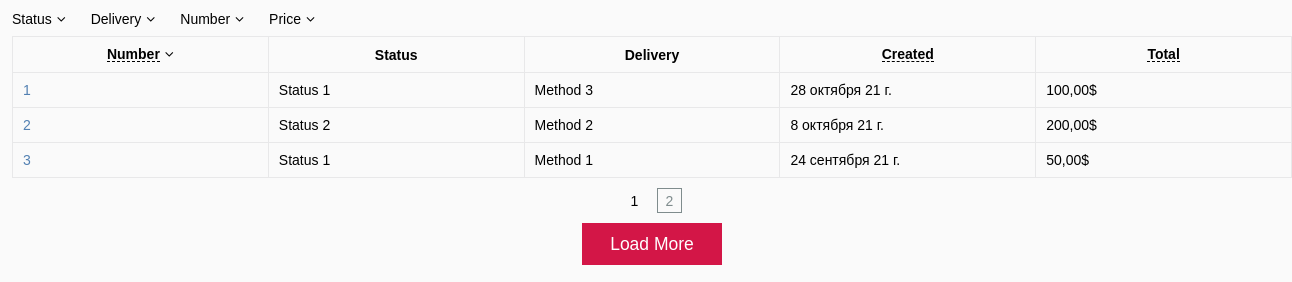
Test: user orders › sorting
Check: the button "Total" is shown, box [1147,47,1180,62]
Check: the cell "1" is shown, box [12,72,268,108]
Click the 2nd button "Number" at [140, 54], box [107,47,174,62]
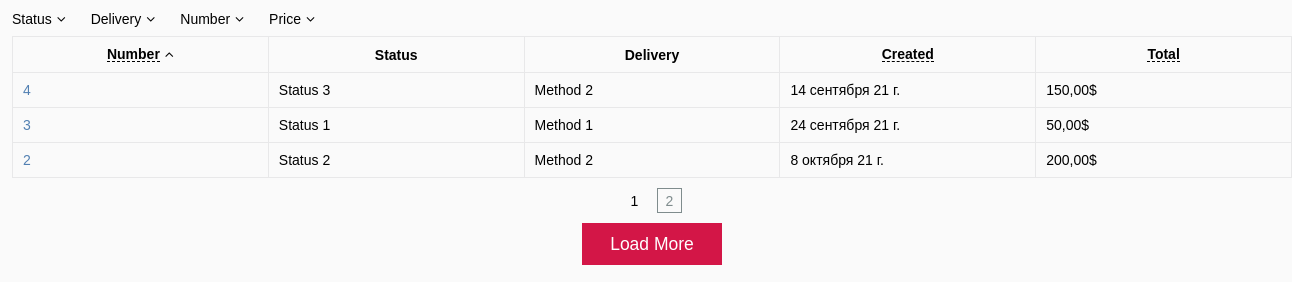
Check: the cell "2" is shown, box [12,142,268,178]
Check: the cell "4" is shown, box [12,72,268,108]
Click the 2nd button "Number" at [140, 54], box [107,47,174,62]
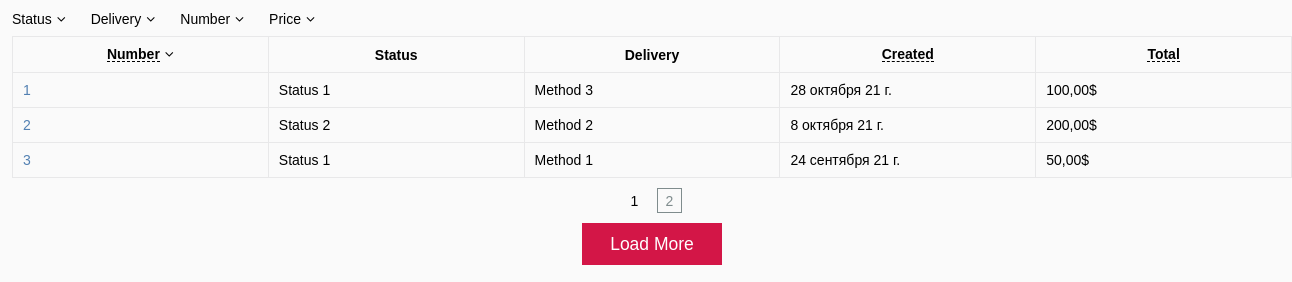
Check: the cell "3" is shown, box [12,142,268,178]
Check: the cell "1" is shown, box [12,72,268,108]
Click the button "Total" at [1164, 54], box [1147,47,1180,62]
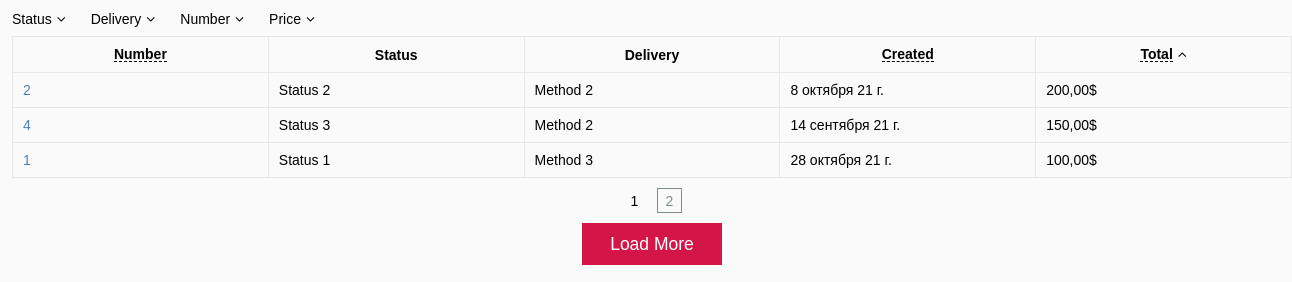
Check: the cell "2" is shown, box [12,72,268,108]
Check: the cell "1" is shown, box [12,142,268,178]
Click the button "Total" at [1164, 54], box [1140,47,1187,62]
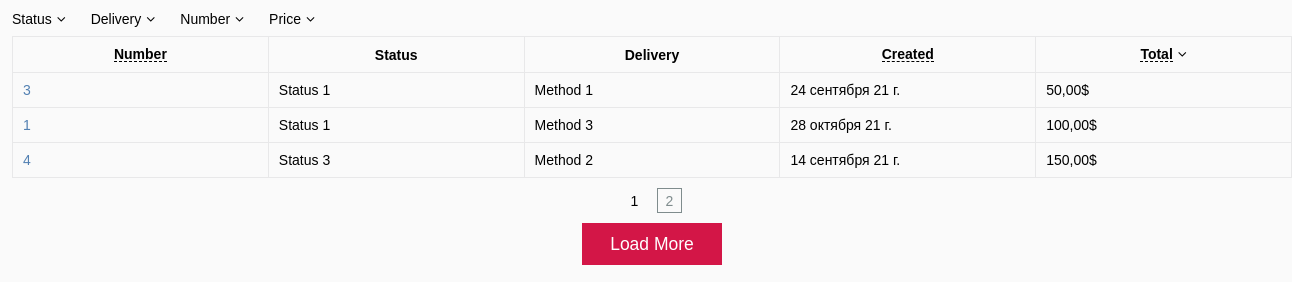
Check: the cell "4" is shown, box [12,142,268,178]
Check: the cell "3" is shown, box [12,72,268,108]
